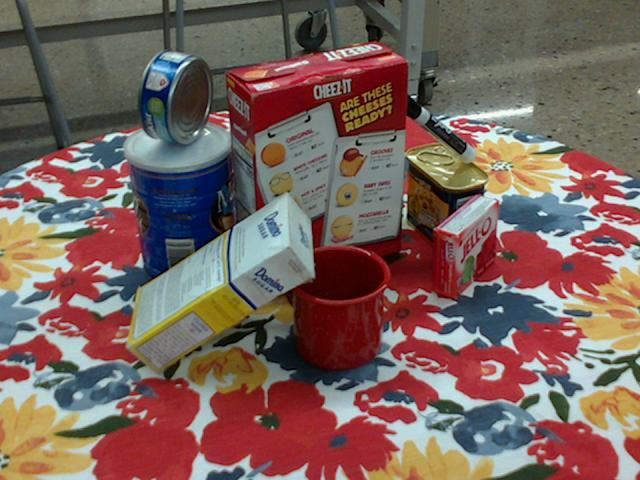cracker_box: (225, 42, 410, 293)
gelatin_box: (432, 194, 499, 299)
large_marker: (395, 93, 477, 162)
master_chef_can: (125, 120, 237, 291)
mug: (283, 242, 391, 369)
mustard_bottle: (331, 44, 391, 225)
potted_meat_can: (406, 143, 489, 254)
sugar_box: (124, 192, 315, 376)
tomato_soup_can: (245, 113, 308, 219)
tuna_fish_can: (138, 49, 211, 144)
